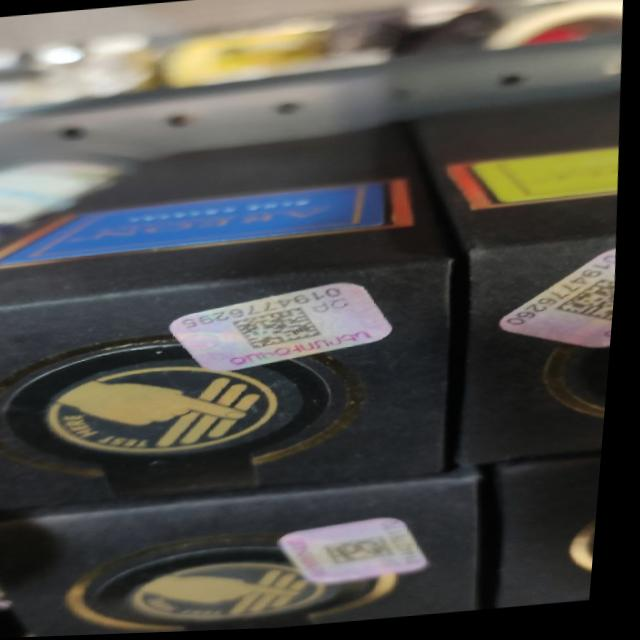datamatrix: (233, 307, 332, 356), (558, 282, 622, 333)
